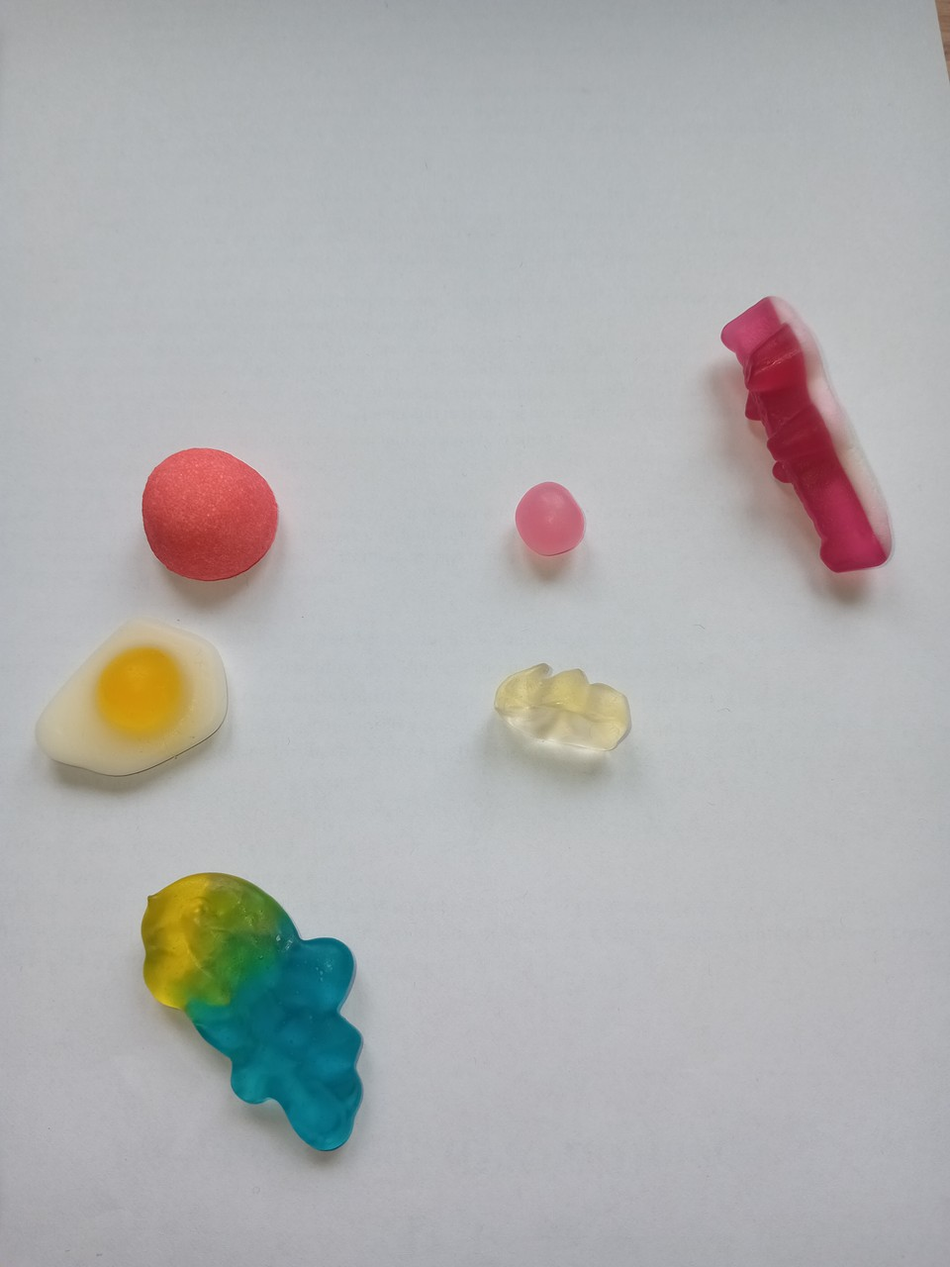crocodile_rouge: (707, 281, 898, 585)
dragibus_rose: (502, 475, 596, 562)
oeuf_oeuf: (27, 614, 243, 779)
ourson_blanc: (488, 657, 637, 756)
schtroumpf_bleu-jaune: (130, 860, 371, 1157)
tagada_fraise: (139, 441, 282, 585)
